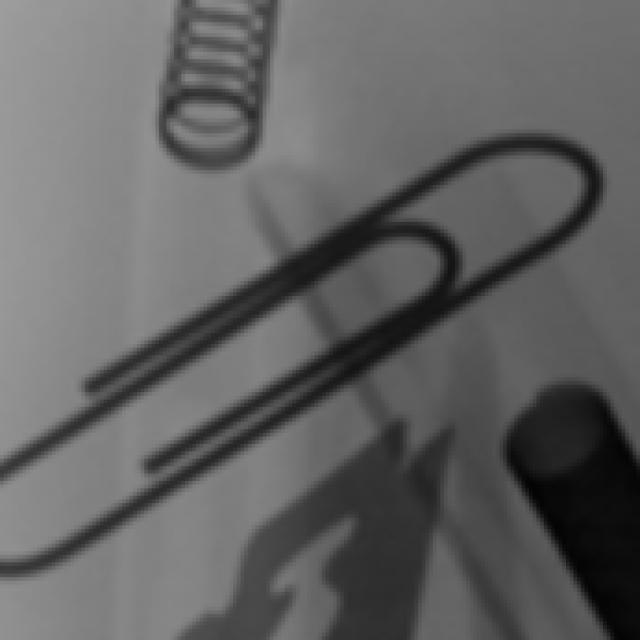GUN: (149, 352, 456, 640), (471, 338, 640, 640)
